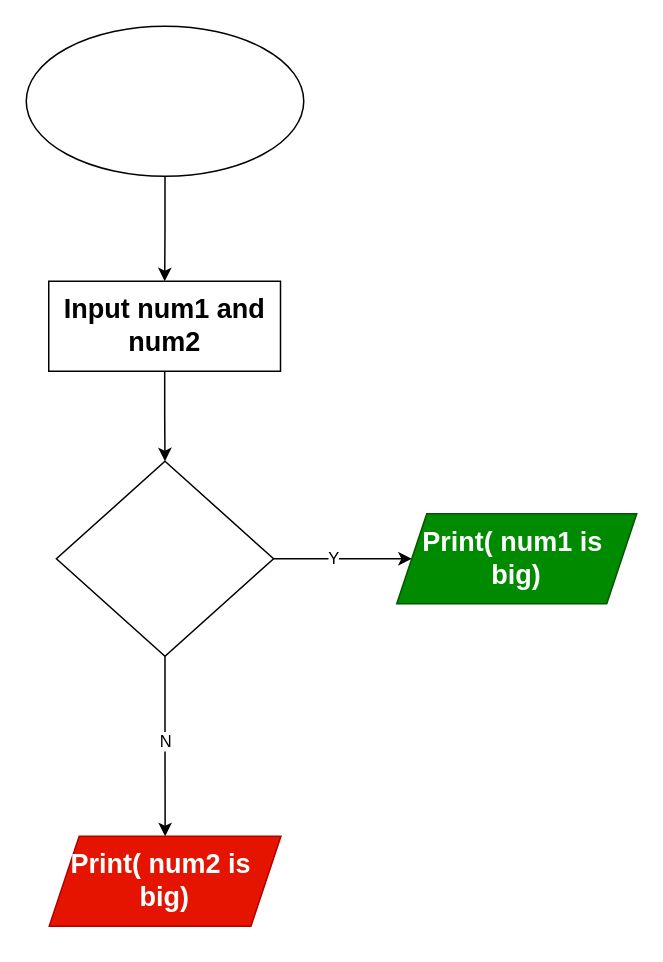
Some shapes in this 663 by 962 pixel diagram are drawn without their labels. The box of each missing label's shape, as (x1, y1, x2, y2) in pixels:
if num1>num2:: (55, 460, 274, 656)
START: (25, 25, 304, 176)
